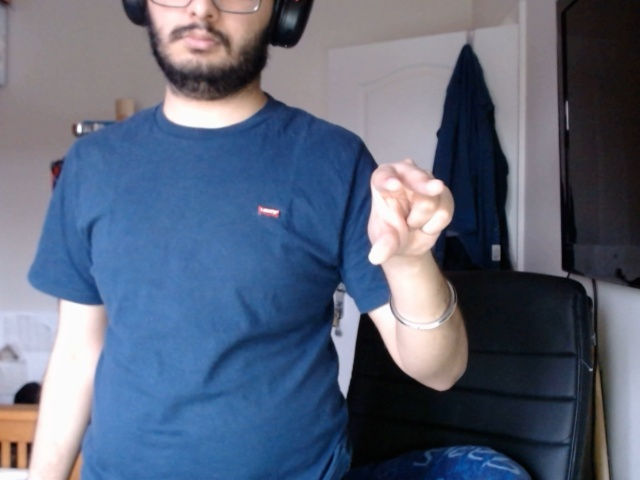No: (350, 152, 465, 292)
